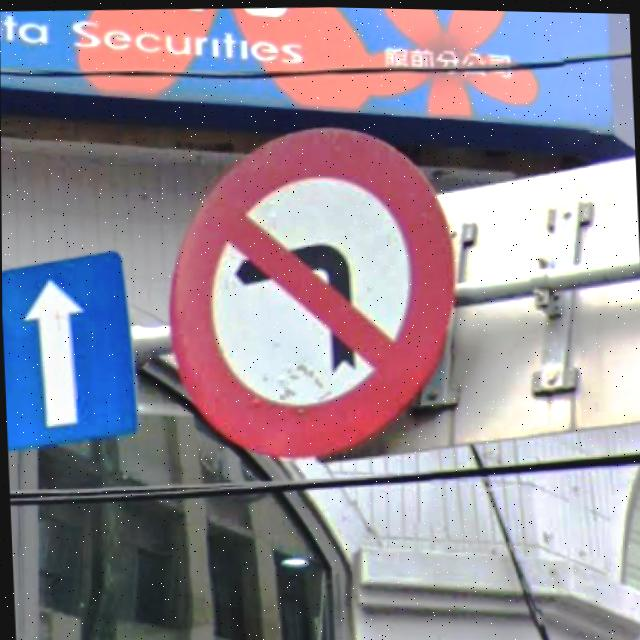noturnleft: (166, 126, 456, 459)
